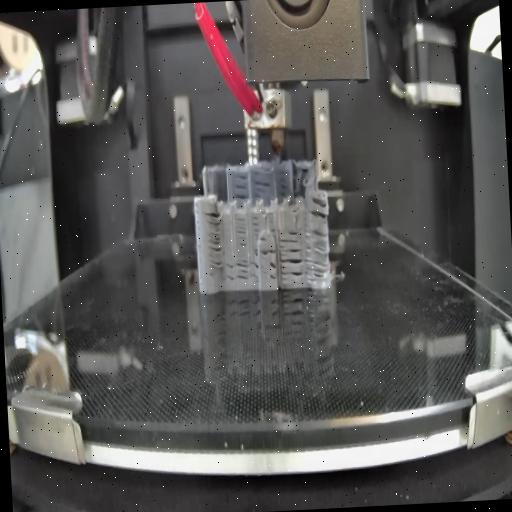cracks: (304, 228, 331, 282), (204, 210, 224, 269), (225, 260, 260, 282), (280, 248, 302, 282), (306, 194, 330, 220), (232, 172, 250, 202), (250, 176, 272, 200), (276, 167, 291, 200), (278, 224, 298, 246), (235, 216, 248, 248), (254, 244, 274, 257), (267, 207, 277, 231), (268, 262, 278, 281), (252, 214, 260, 237), (300, 166, 310, 175), (259, 235, 266, 243)
